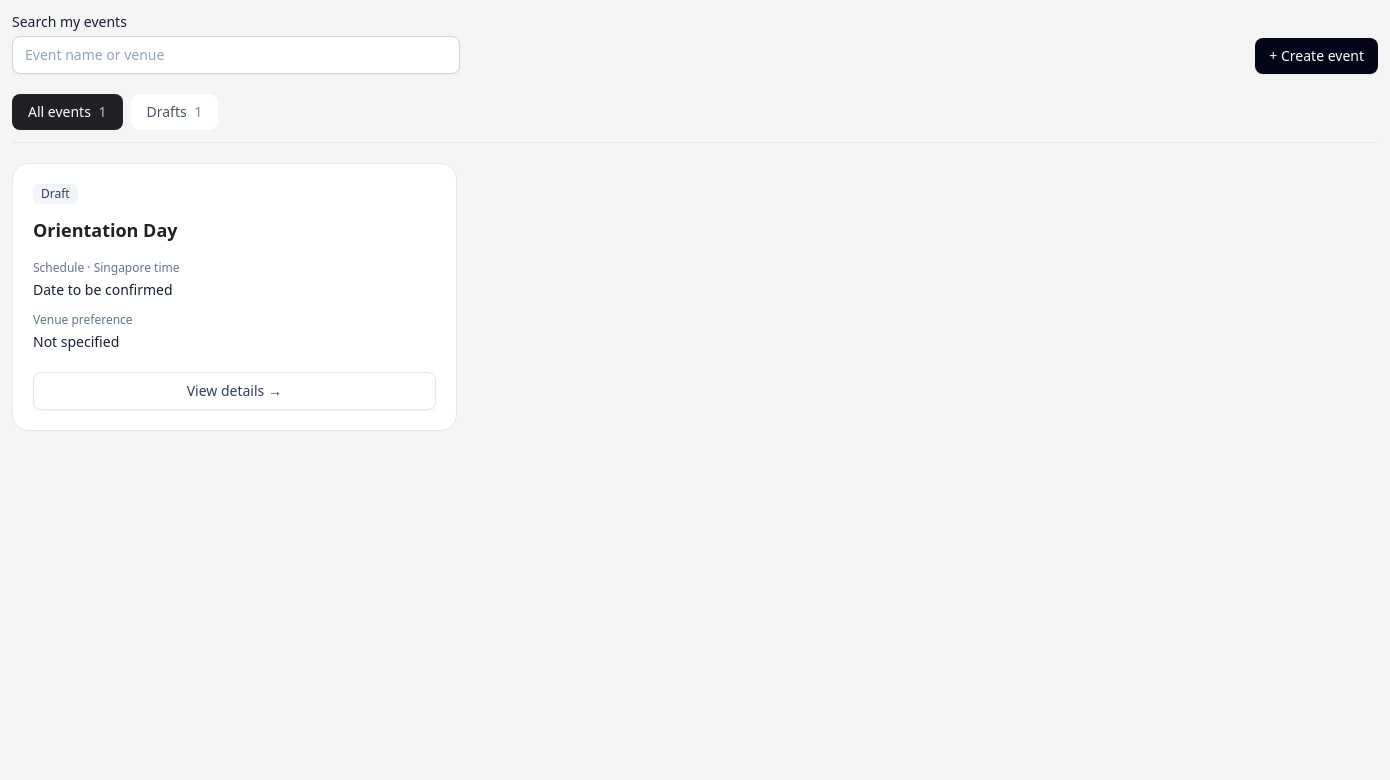
Test: submitting an incomplete draft names the fields to correct
What coordinates should you click on to do the following:
click the button with aria-label "View details for Orientation Day"
I would click on:
 (234, 391)
Its box is [33,372,436,410].
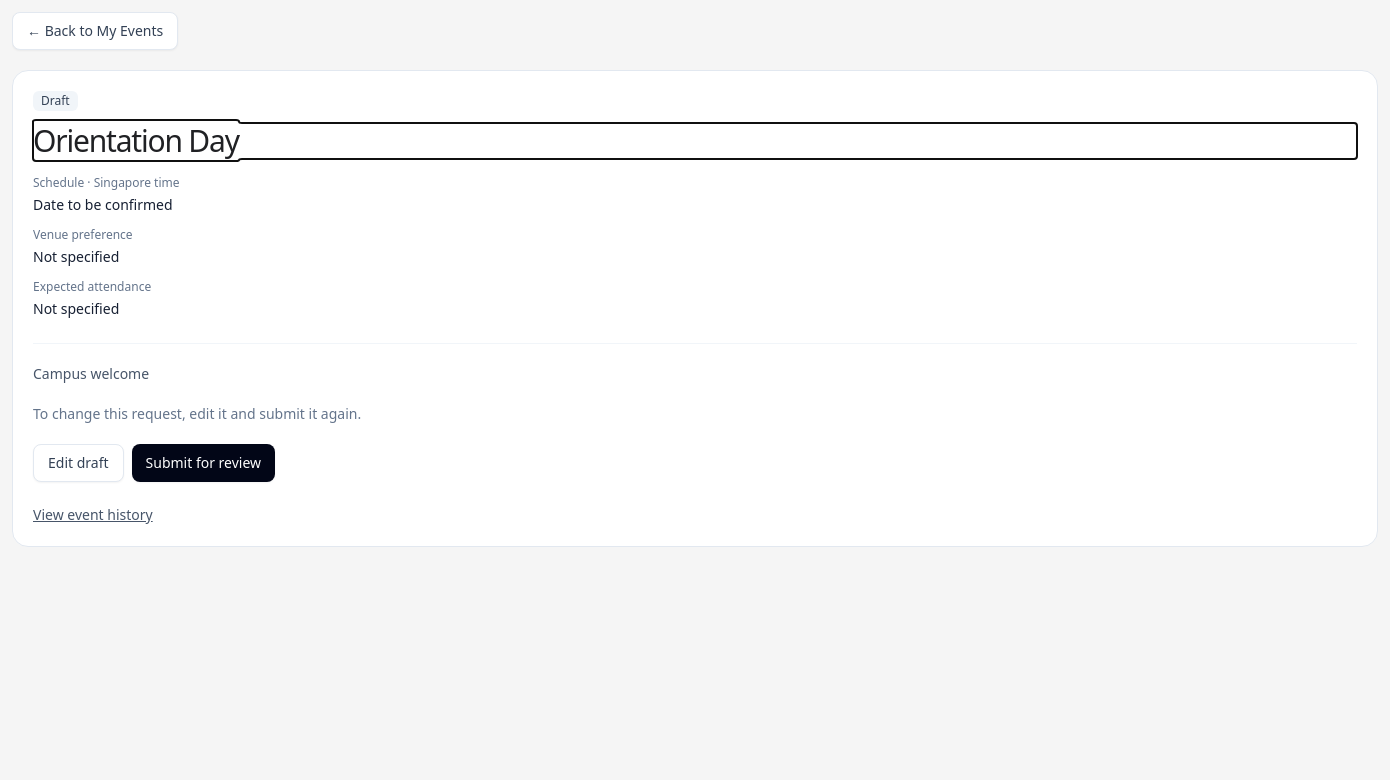
What coordinates should you click on to do the following:
click the button "Submit for review"
I would click on:
 (203, 463)
Its box is [132,444,275,482].
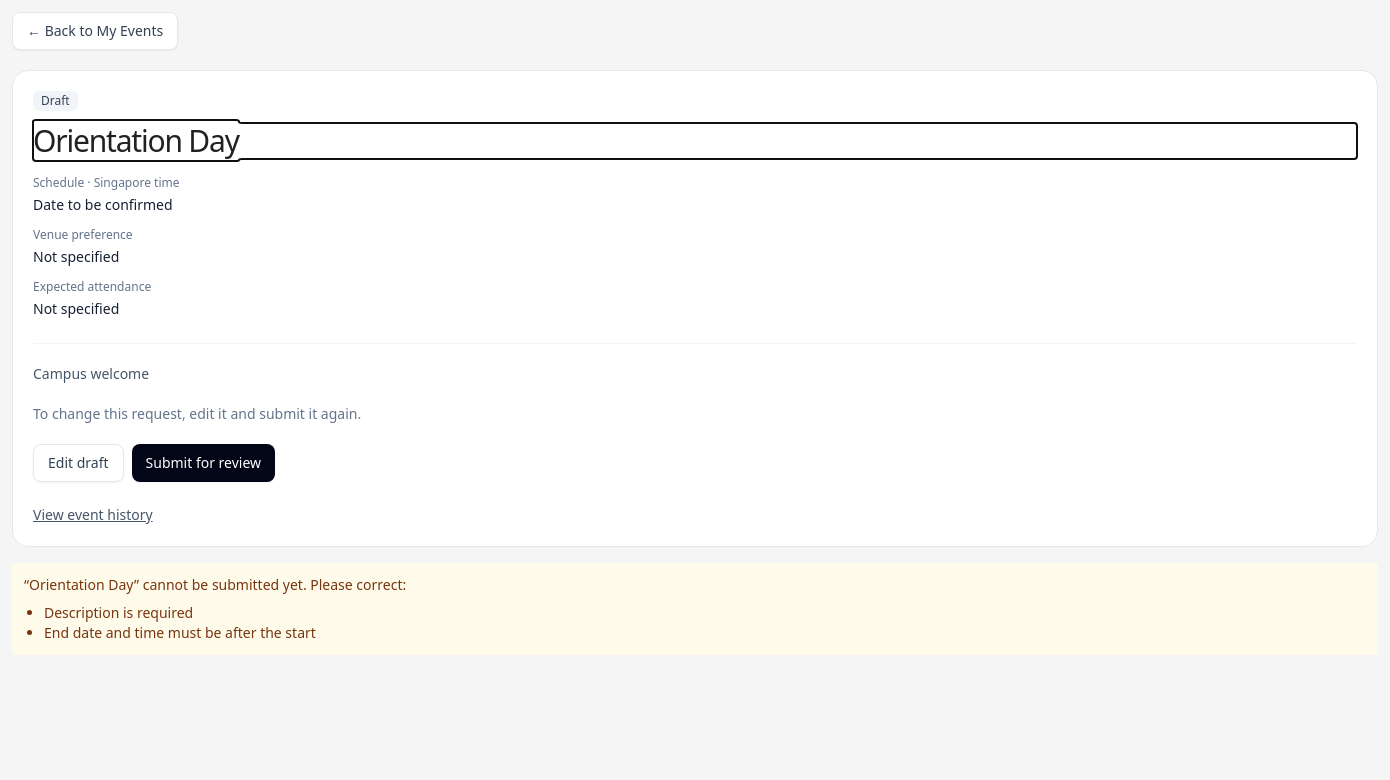
Check: the message shows "“Orientation Day” cannot be submitted yet", box [12,563,1378,655]
Check: the message shows "Description is required", box [12,563,1378,655]
Check: the message shows "End date and time must be after the start", box [12,563,1378,655]
